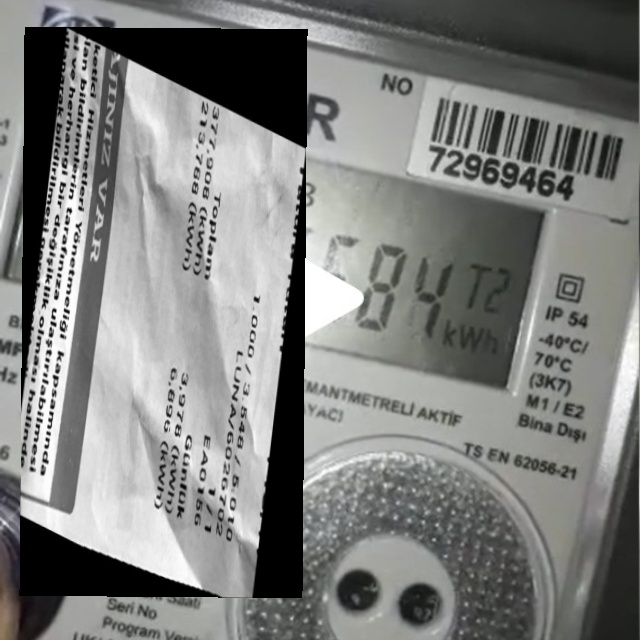electricity-bill: (19, 26, 308, 598)
